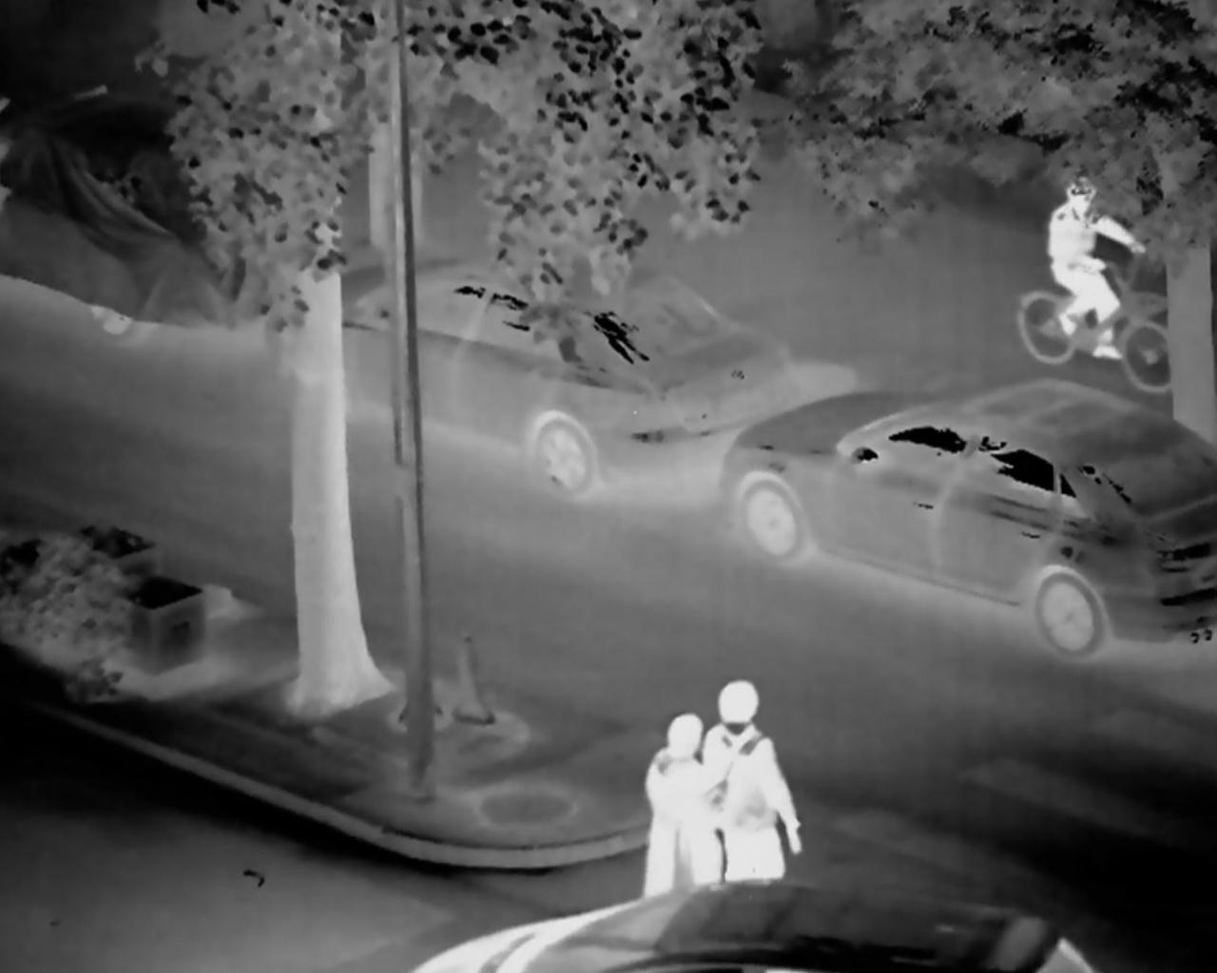person: (1015, 167, 1148, 392), (704, 677, 806, 904), (640, 706, 711, 906)
